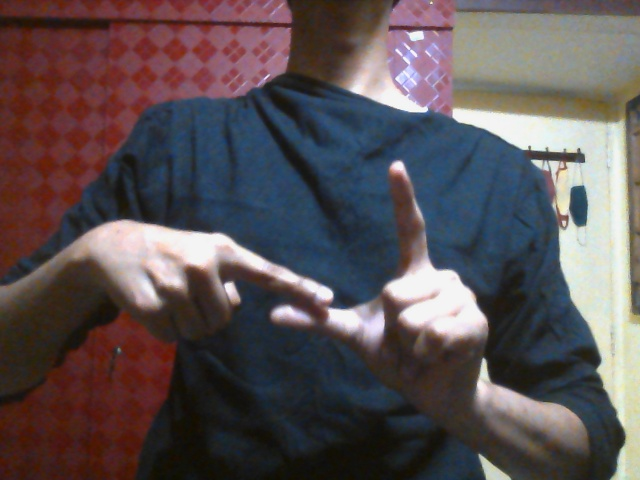J: (178, 160, 490, 403)
